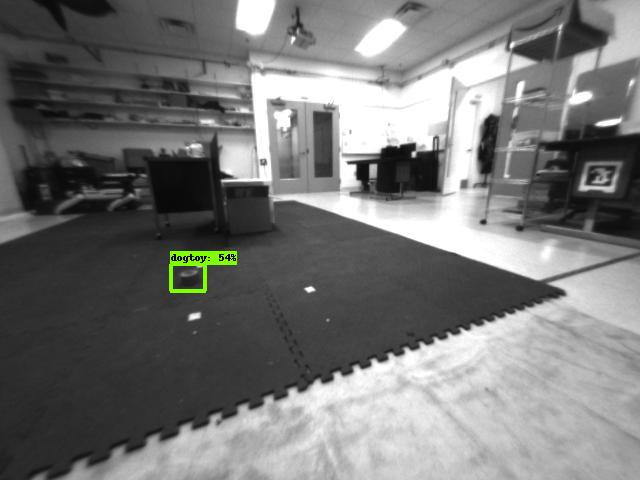dogtoy: (171, 267, 212, 288)
